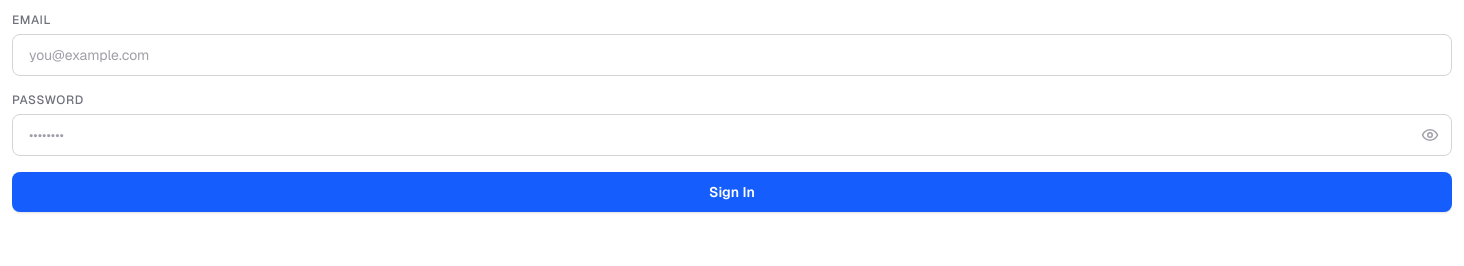
LoginForm › validates email format before submitting
This screenshot has width=1464, height=266.
Type "not-an-email" into the field labelled "Email" at (732, 55), box x1=12 y1=34 x2=1452 y2=76
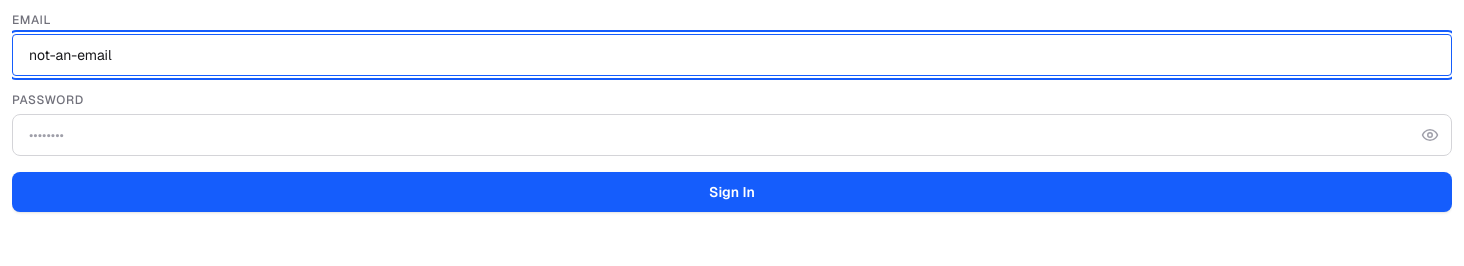
Type "password123" into the password field labelled "Password" at (732, 135), box x1=12 y1=114 x2=1452 y2=156
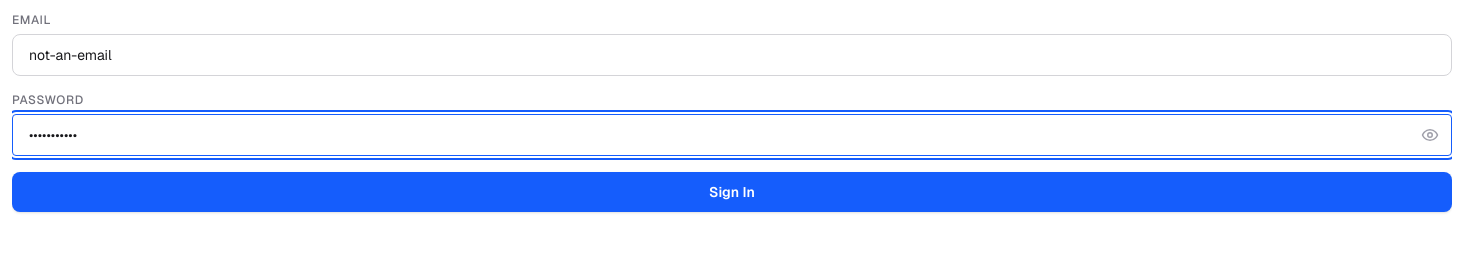
Click the button "Sign In" at (732, 192), box x1=12 y1=172 x2=1452 y2=212
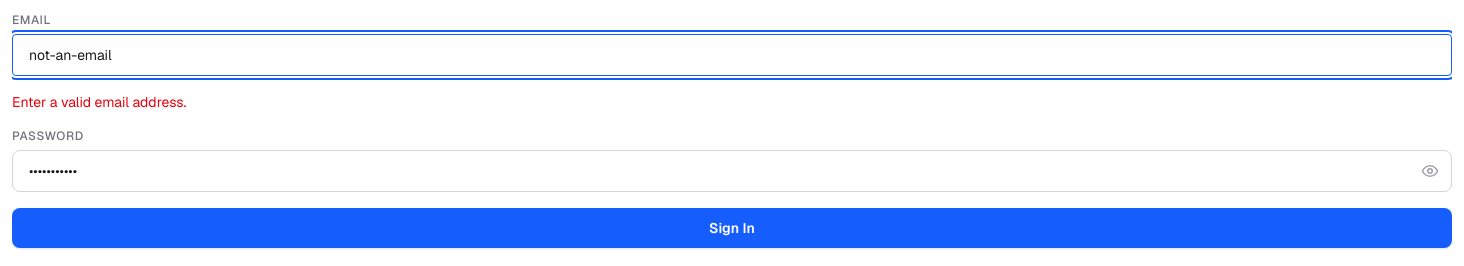
Check: the text "Enter a valid email address." is shown, box x1=12 y1=93 x2=186 y2=111
